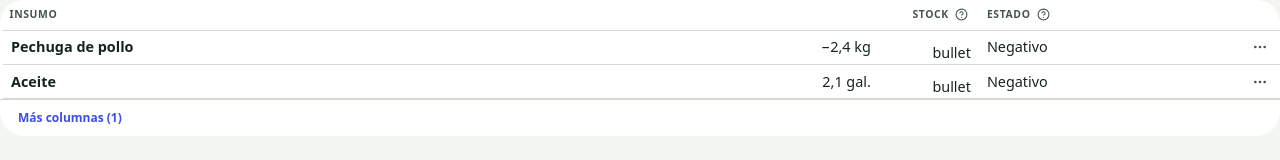
«⋯» por fila: acciones con nombre y la nota «Nada se borra» › la nota se puede decir con las palabras de la pantalla
The image size is (1280, 160).
Step 1. Click the button named "Acciones de Pechuga de pollo" → (1260, 47), box x1=1246 y1=33 x2=1274 y2=61
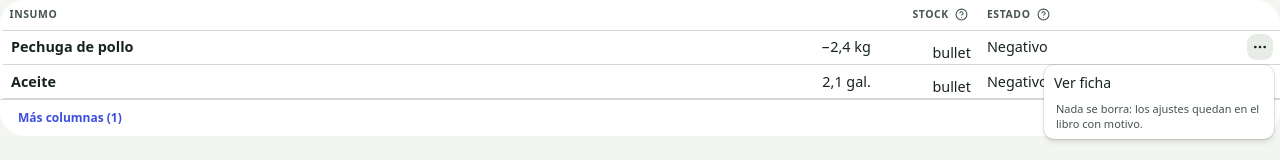
Now the text "Nada se borra: los ajustes quedan en el libro con motivo." is shown, box x1=1056 y1=101 x2=1262 y2=131
